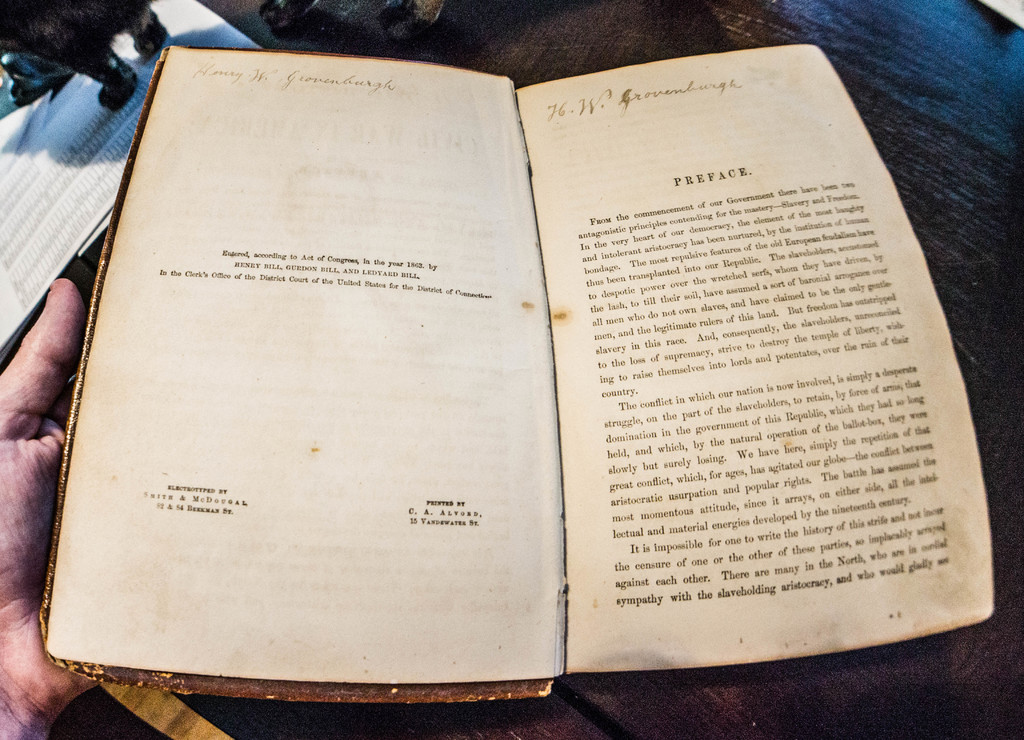Book: (25, 42, 988, 696)
